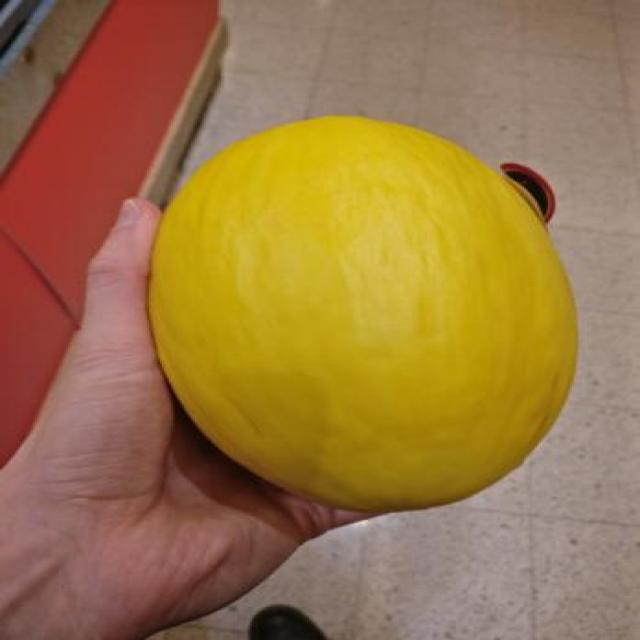Honeydew: (147, 117, 578, 508)
